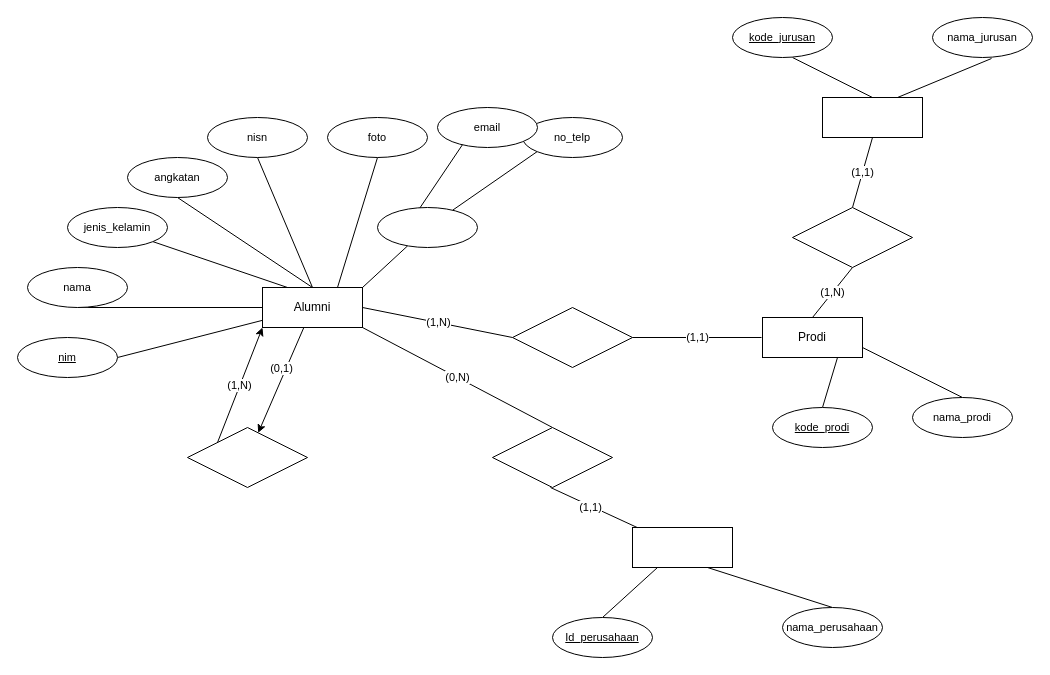
The diagram is 1050 pixels wide and 675 high, and some of its shapes have lost their labels. The shapes that lost their labels are listed below. From the top down, each one's box as (x1, y1, x2, y2) in pixels, then its label:
(822, 96, 922, 138): Jurusan
(376, 206, 478, 248): kontak
(792, 206, 912, 268): dinaungi
(512, 306, 632, 368): belajar di
(186, 426, 308, 488): menjadi narahubung
(492, 426, 612, 488): bekerja
(632, 526, 732, 568): Perusahaan
